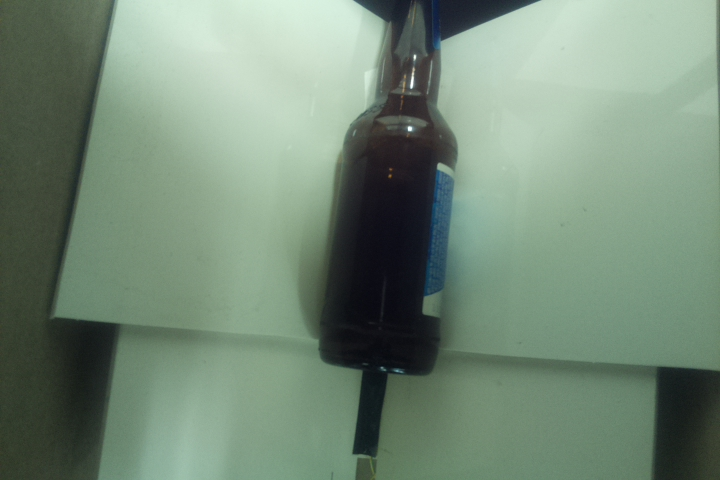makju: (316, 1, 461, 377)
